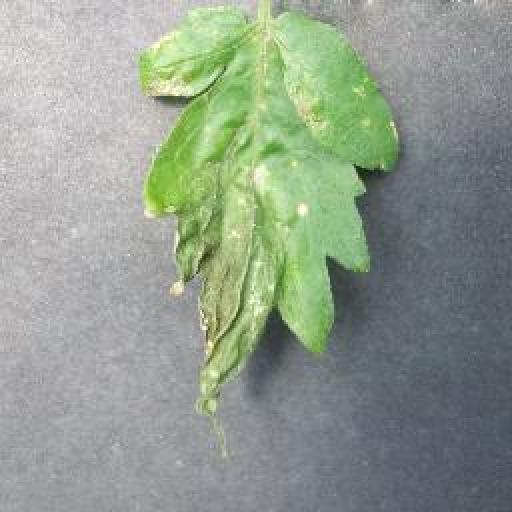Late Blight: (134, 7, 402, 420)
